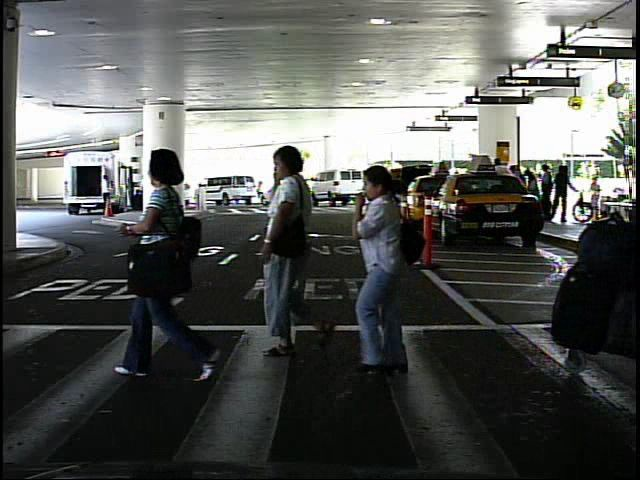person: (109, 137, 226, 384), (342, 160, 449, 381), (248, 139, 353, 361), (588, 172, 607, 218), (98, 172, 117, 195), (255, 177, 265, 204)
